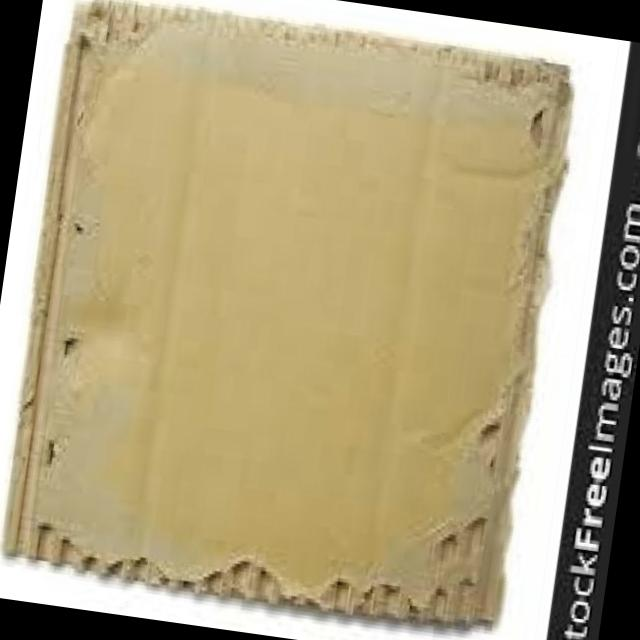cardboard paper: (4, 0, 568, 622)
